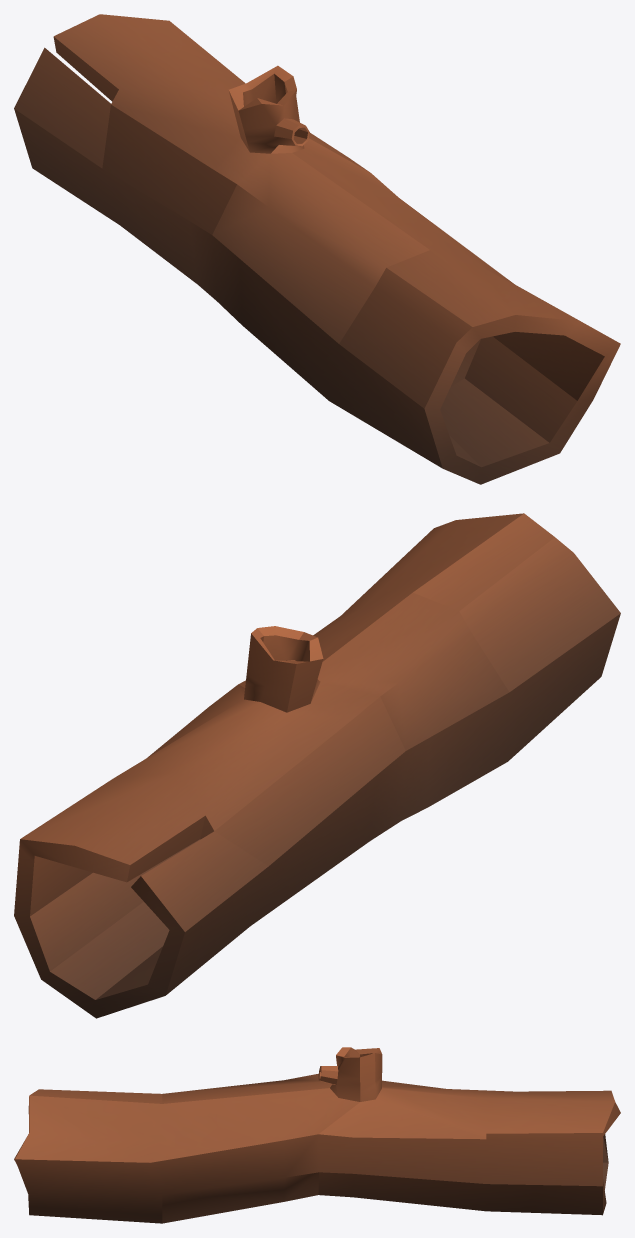
The model's file is maderaCaida2.fbx.
The picture shows the model from 3 angles, top to bottom: view 1: azimuth 30°, elevation 25°; view 2: azimuth 150°, elevation 25°; view 3: azimuth 270°, elevation 25°; orthographic projection. The views are drawn at different scales.
Visible parts, largest first — view 1: maderaCaida2; view 2: maderaCaida2; view 3: maderaCaida2.
Part boxes in pixels (x1,y1,x2,y2): maderaCaida2: [14, 14, 620, 484]; maderaCaida2: [14, 513, 620, 1018]; maderaCaida2: [14, 1047, 620, 1223].
Bounding box in the file's own units: 370 × 456 × 1456.
